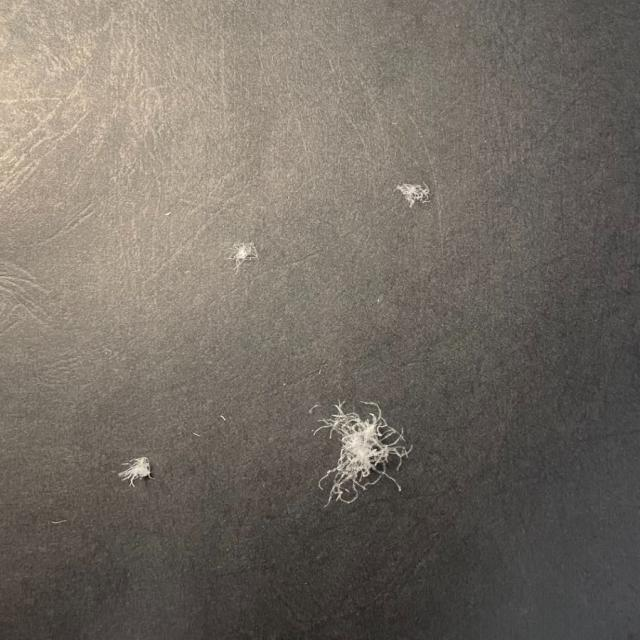feather: (309, 394, 409, 509), (389, 172, 429, 208), (220, 234, 266, 264), (121, 453, 158, 484)
